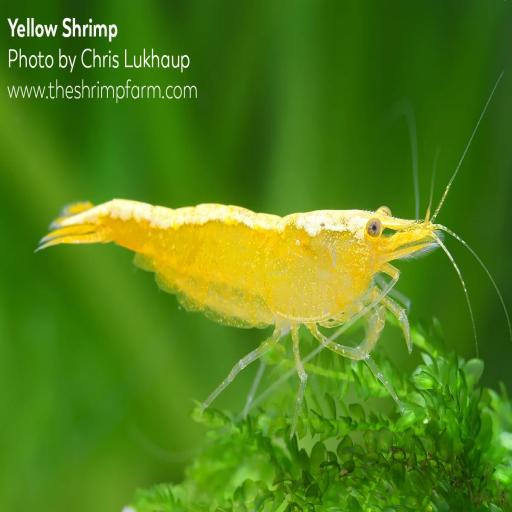Shrimp: (21, 71, 506, 411)
